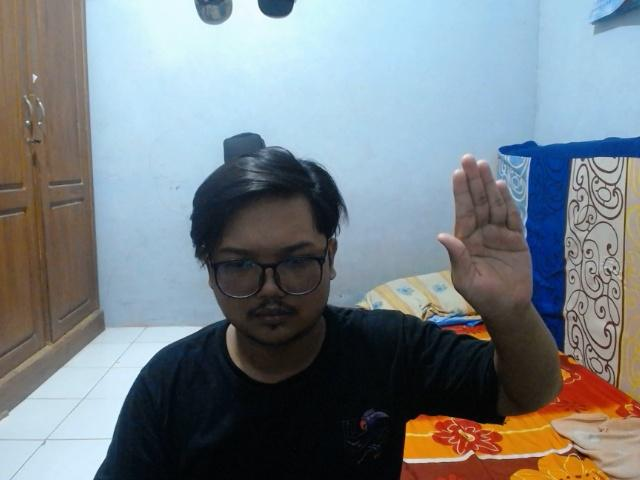Release: (432, 150, 540, 320)
